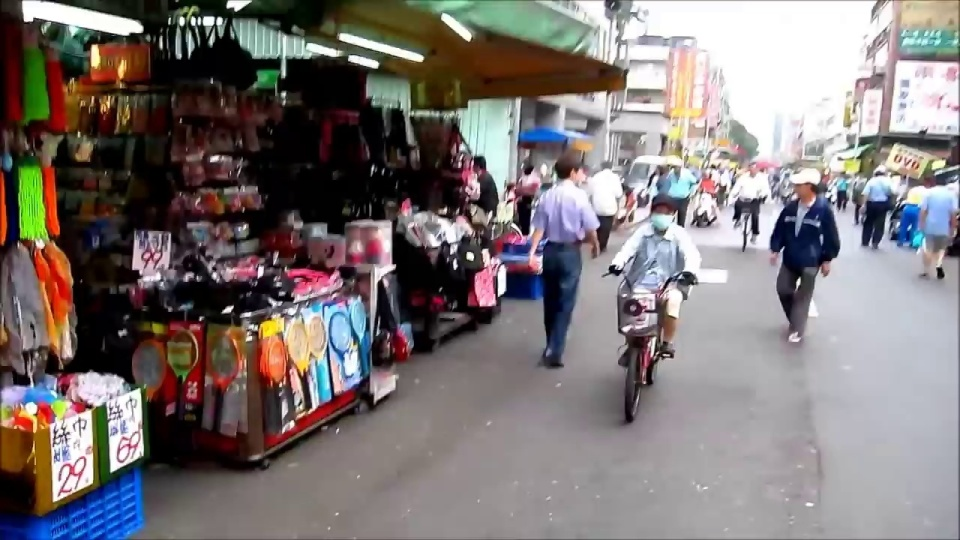person_head: (789, 167, 822, 201), (649, 192, 676, 231), (555, 154, 582, 182), (472, 154, 487, 173), (935, 174, 946, 186), (600, 159, 612, 170), (873, 164, 885, 174), (856, 168, 866, 180), (748, 162, 756, 177), (673, 159, 681, 174), (704, 168, 711, 178), (841, 170, 846, 178), (759, 166, 764, 173), (711, 162, 716, 168), (729, 167, 732, 173)
person_vbox: (523, 152, 601, 367), (610, 190, 703, 366), (770, 167, 840, 344), (918, 174, 957, 279), (587, 158, 624, 244), (728, 162, 761, 243), (860, 164, 891, 249), (666, 159, 701, 231), (465, 155, 499, 228), (896, 182, 926, 247), (688, 166, 717, 226), (852, 168, 868, 223), (837, 167, 849, 212), (757, 164, 768, 204), (711, 161, 720, 196), (729, 167, 734, 180)
